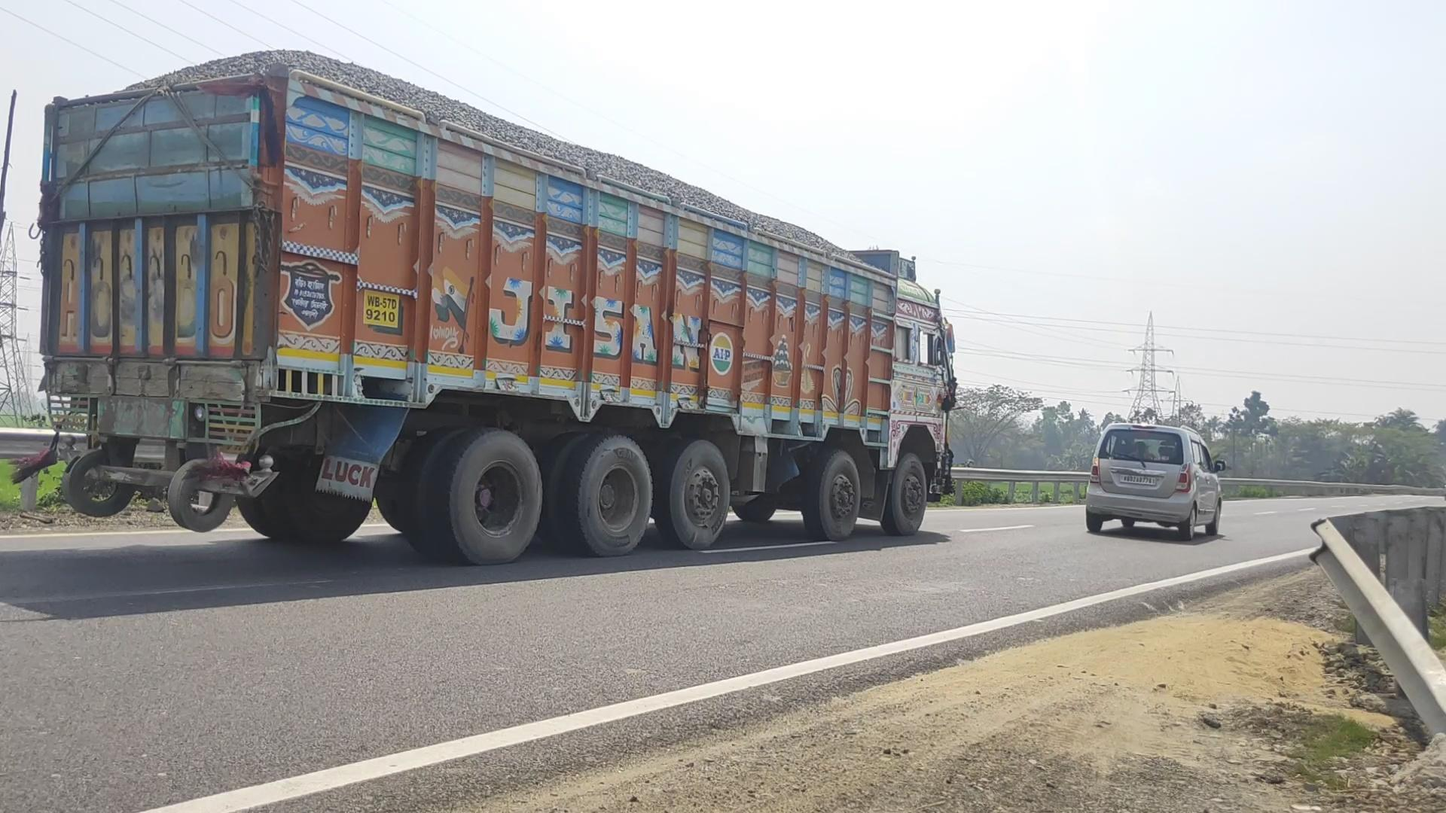car: (1085, 421, 1226, 543)
truck: (36, 48, 959, 566)
